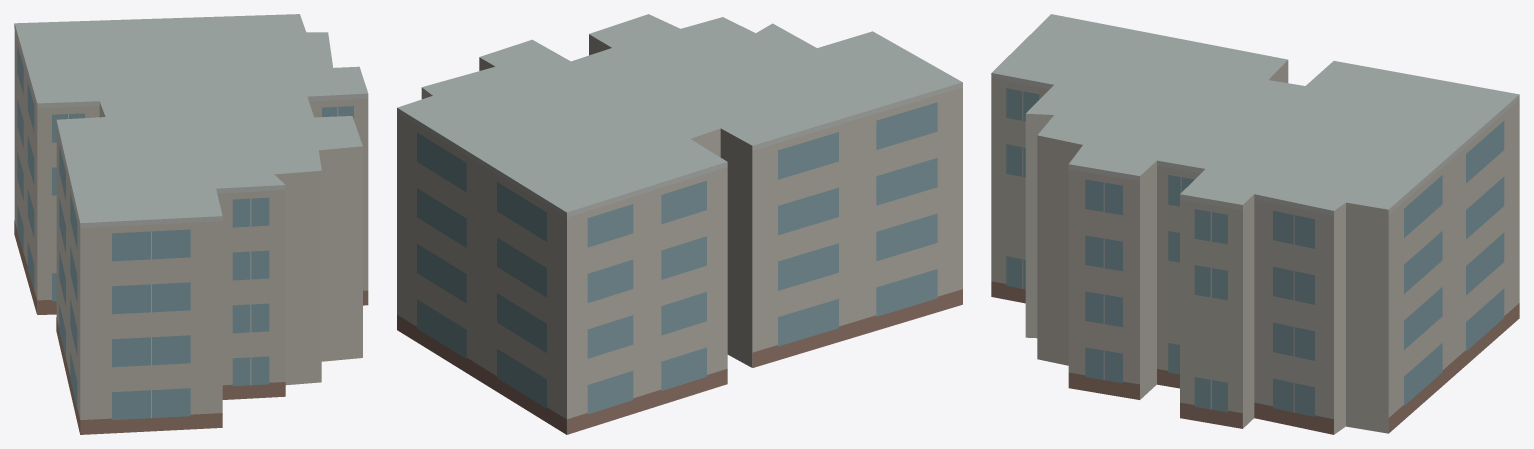
The model's file is survey-upis-33031245.glb.
3 renders of one model, left to right at view 1: azimuth 30°, elevation 25°; view 2: azimuth 150°, elevation 25°; view 3: azimuth 270°, elevation 25°, orthographic. The views are drawn at different scales.
Visible parts, largest first — view 1: survey-upis-33031245.tmp; view 2: survey-upis-33031245.tmp; view 3: survey-upis-33031245.tmp.
Part boxes in pixels (x1,y1,x2,y2): survey-upis-33031245.tmp: (14, 14, 368, 434); survey-upis-33031245.tmp: (397, 14, 962, 434); survey-upis-33031245.tmp: (991, 14, 1519, 434).
Size of the model in its own units: 19.81 by 10.5 by 22.45.
